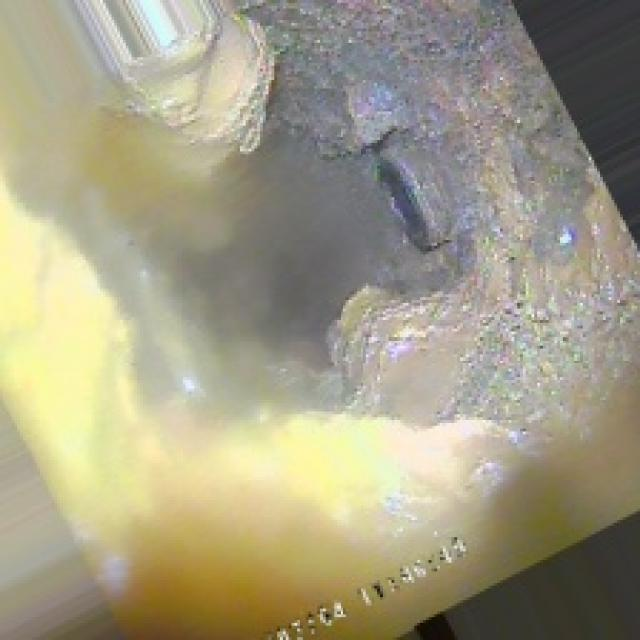encrustation: (132, 9, 554, 372)
ferrule: (363, 143, 463, 248)
